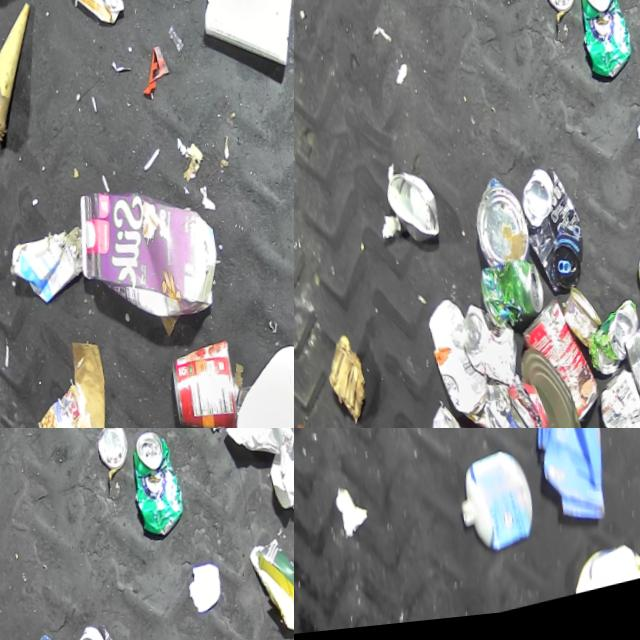can: (513, 296, 598, 428), (513, 165, 587, 303), (125, 431, 186, 548), (163, 341, 239, 428), (455, 298, 520, 399), (466, 175, 529, 274), (513, 344, 581, 428), (573, 0, 634, 90), (476, 257, 545, 336), (380, 162, 440, 249), (579, 304, 640, 386), (27, 379, 104, 428), (556, 288, 602, 359), (590, 370, 640, 428), (616, 319, 640, 428), (92, 428, 128, 479), (423, 401, 473, 428), (540, 0, 576, 21)
milk_jug: (214, 341, 294, 428)
non_white_jug: (68, 169, 222, 347), (57, 0, 147, 38)
